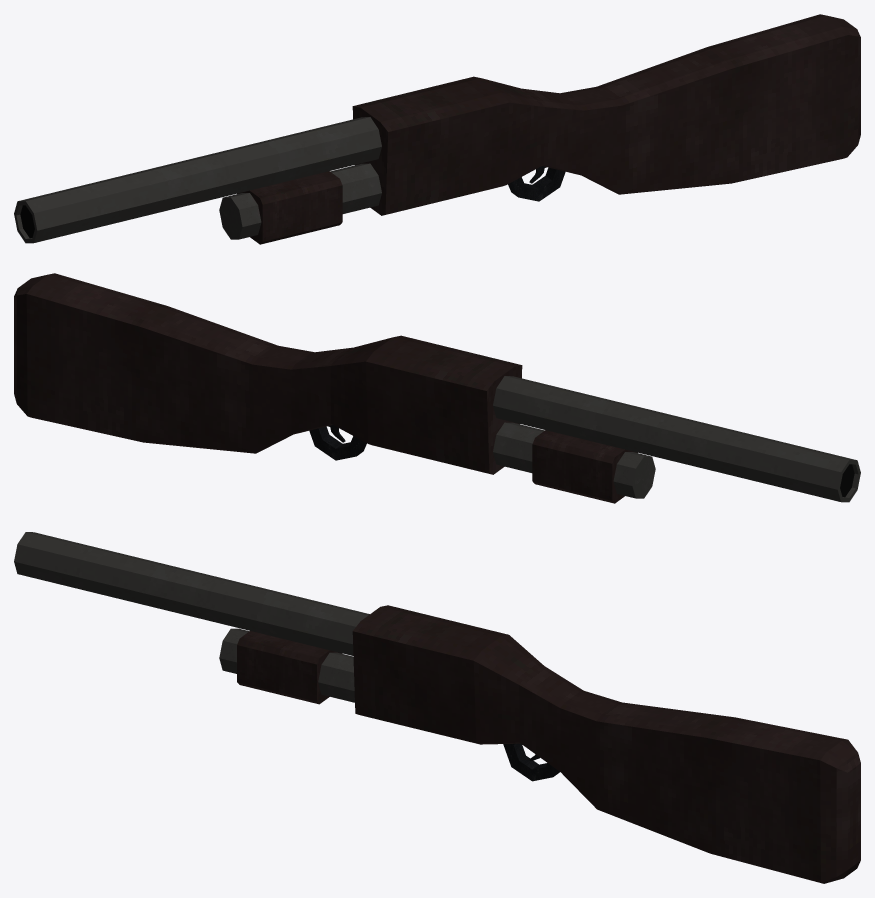
The model's file is Shotgun.glb.
The picture shows the model from 3 angles, top to bottom: view 1: azimuth 30°, elevation 25°; view 2: azimuth 150°, elevation 25°; view 3: azimuth 330°, elevation 25°; orthographic projection.
Parts seen in each view (by area): view 1: Body, Barrel, Forend, ForendBarrel, TriggerRing; view 2: Body, Barrel, Forend, ForendBarrel, TriggerRing; view 3: Body, Barrel, Forend, ForendBarrel, TriggerRing.
Boxes of the visible parts, box(x1,y1,x2,y2) form: Body: box(352, 14, 860, 215); Barrel: box(14, 117, 381, 243); Forend: box(237, 171, 342, 244); ForendBarrel: box(219, 163, 381, 239); TriggerRing: box(508, 167, 565, 201); Body: box(14, 273, 522, 474); Barrel: box(493, 376, 860, 502); Forend: box(532, 430, 637, 503); ForendBarrel: box(493, 422, 655, 498); TriggerRing: box(309, 426, 366, 460); Body: box(352, 605, 860, 883); Barrel: box(14, 532, 369, 655); Forend: box(237, 631, 342, 704); ForendBarrel: box(219, 628, 354, 702); TriggerRing: box(503, 743, 559, 781).
Bounding box in the file's own units: 12.33 × 2.12 × 0.9135.
1 material, 1 textured.
